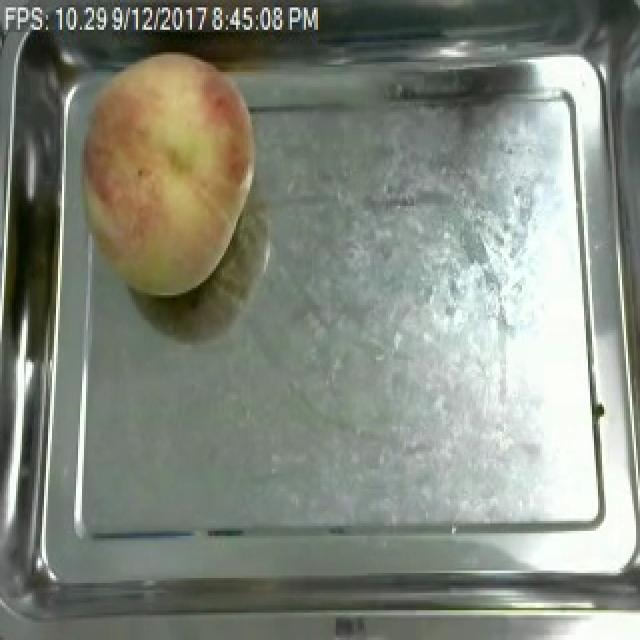Fruit: (62, 37, 268, 308)
